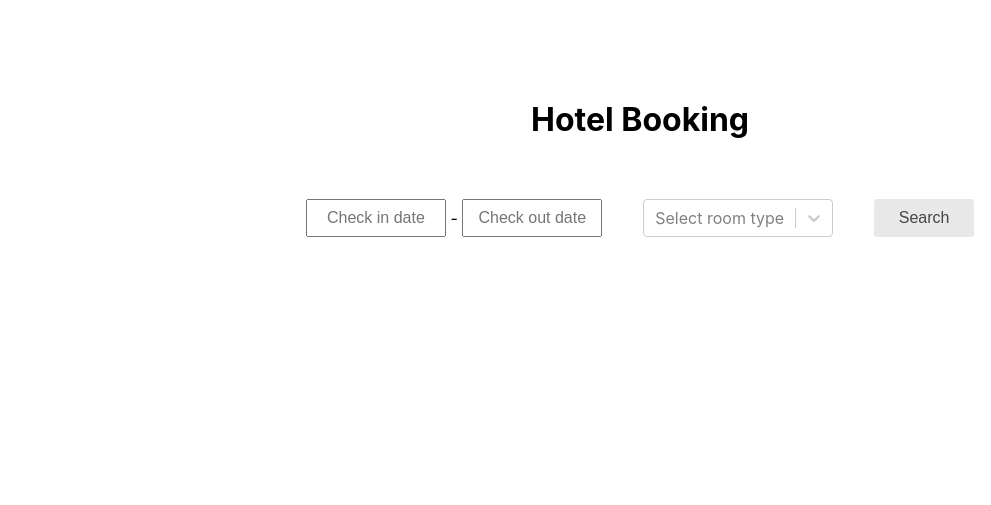
Scenario: returns all double rooms vacant if booking time is after all booked times from data
This screenshot has width=991, height=505.
Type "08/06/2022" into the field with placeholder "Check in date" at (376, 218), box [306,199,446,237]
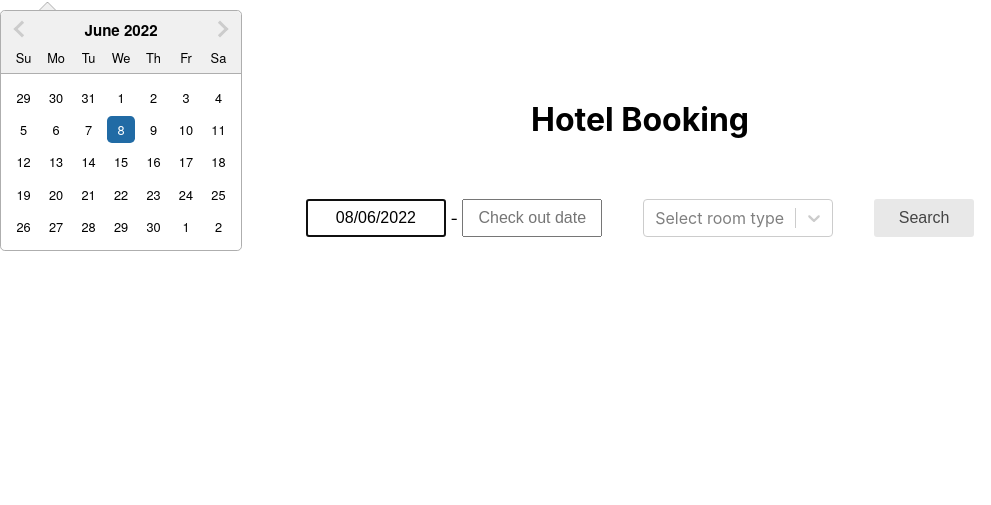
Type "13/06/2022" into the field with placeholder "Check out date" at (532, 218), box [462,199,602,237]
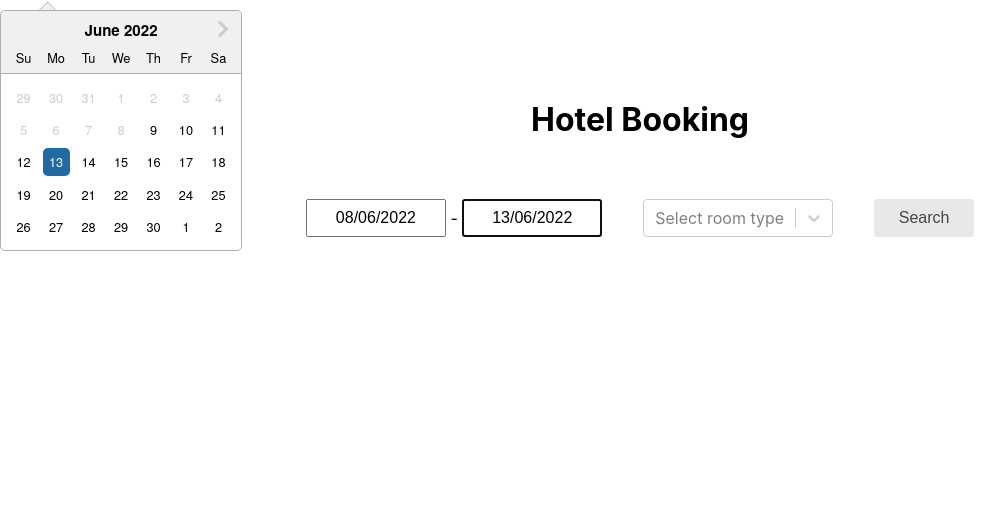
Click the element showing "Select room type" at (738, 218), box [643,199,833,237]
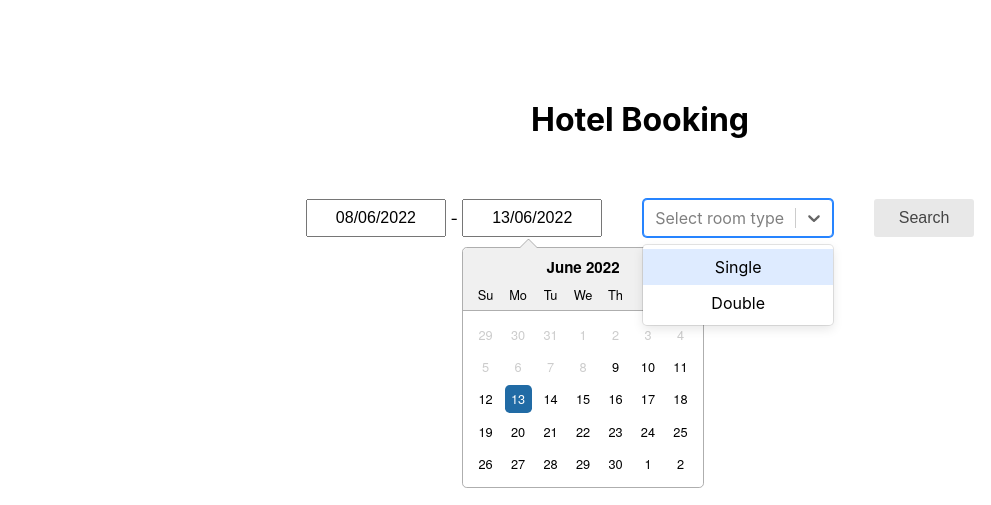
Click the option "Double" at (738, 303), box [711,293,765,313]
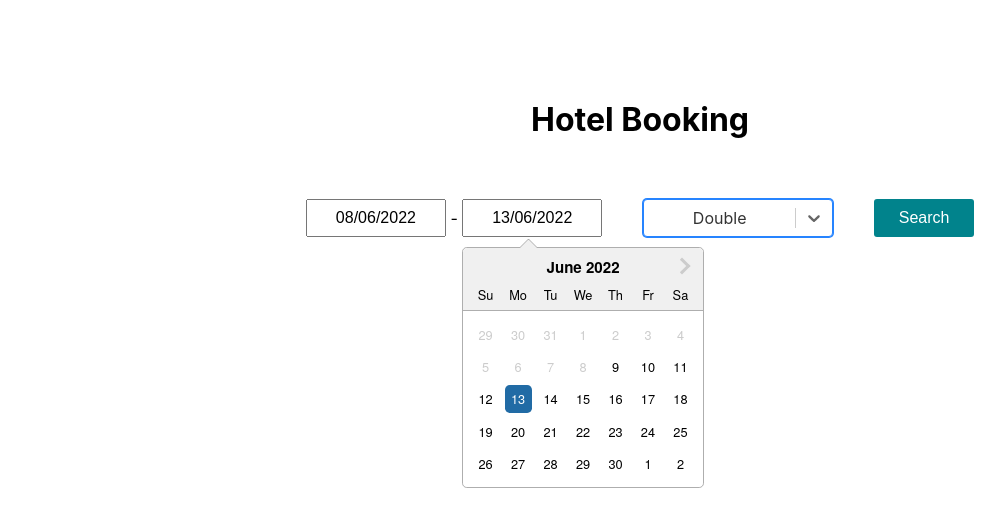
Click the button "Search" at (924, 218), box [874,199,974,237]
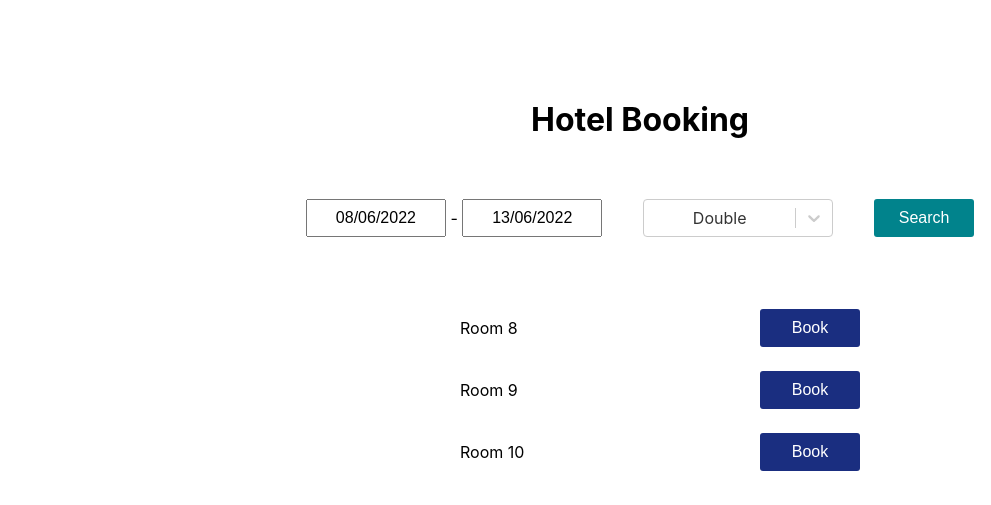
Result: the number of list items is 3 at [448,297,872,359]; [448,359,872,421]; [448,421,872,483]
